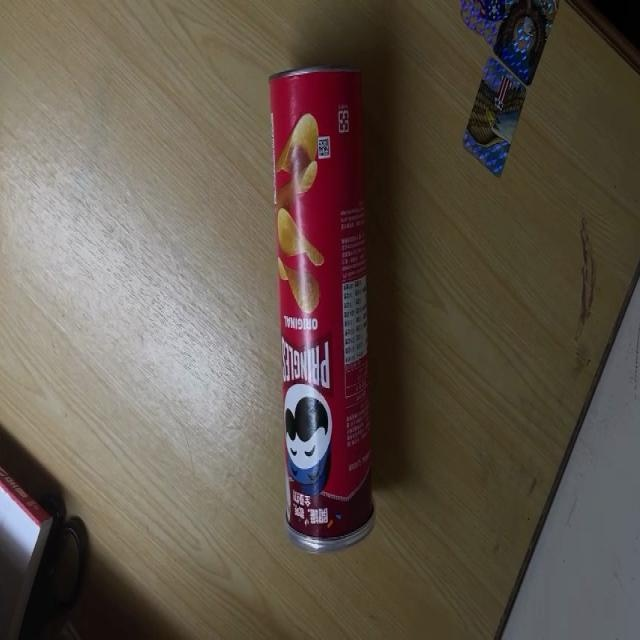Pringles: (267, 68, 374, 552)
